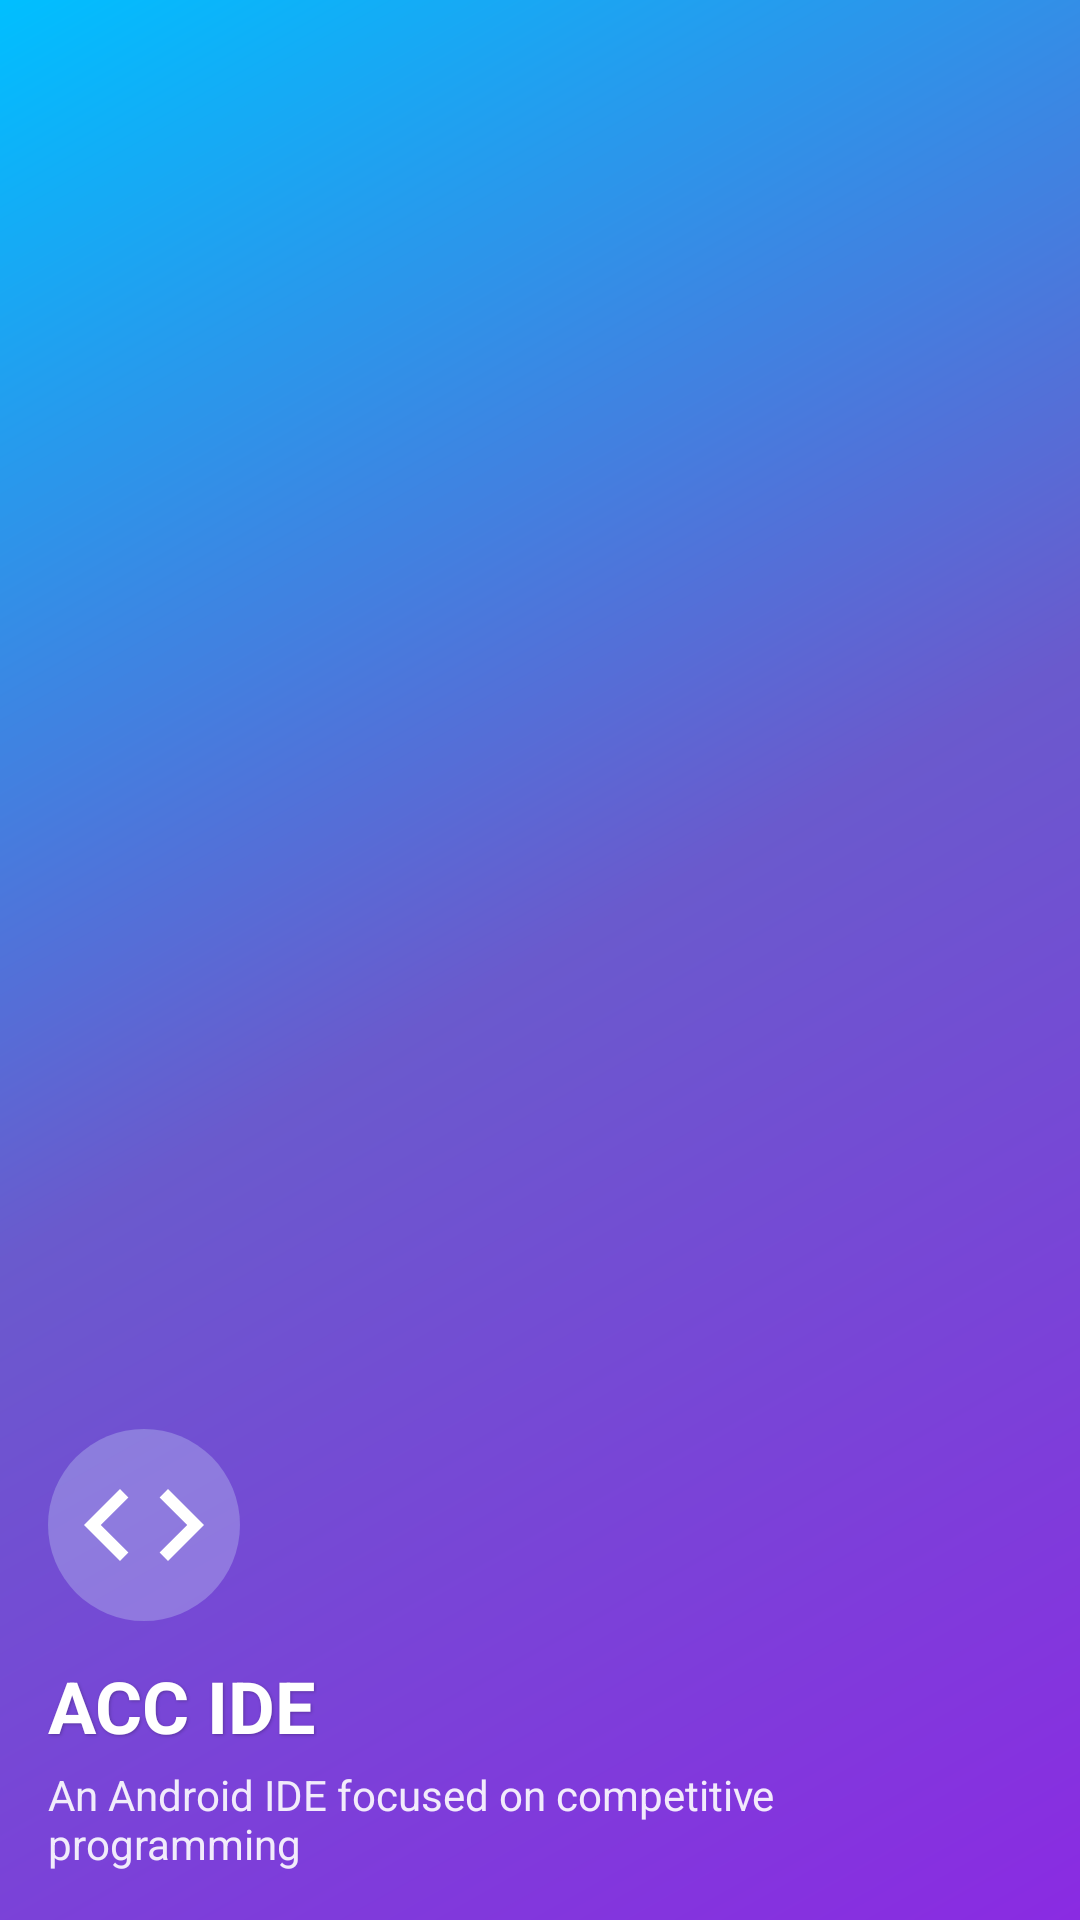

Screen size 1080px x 1920px. Icon name, then its box in pixels as (x1, y1, x2, y2):
code: (48, 1429, 240, 1621)
